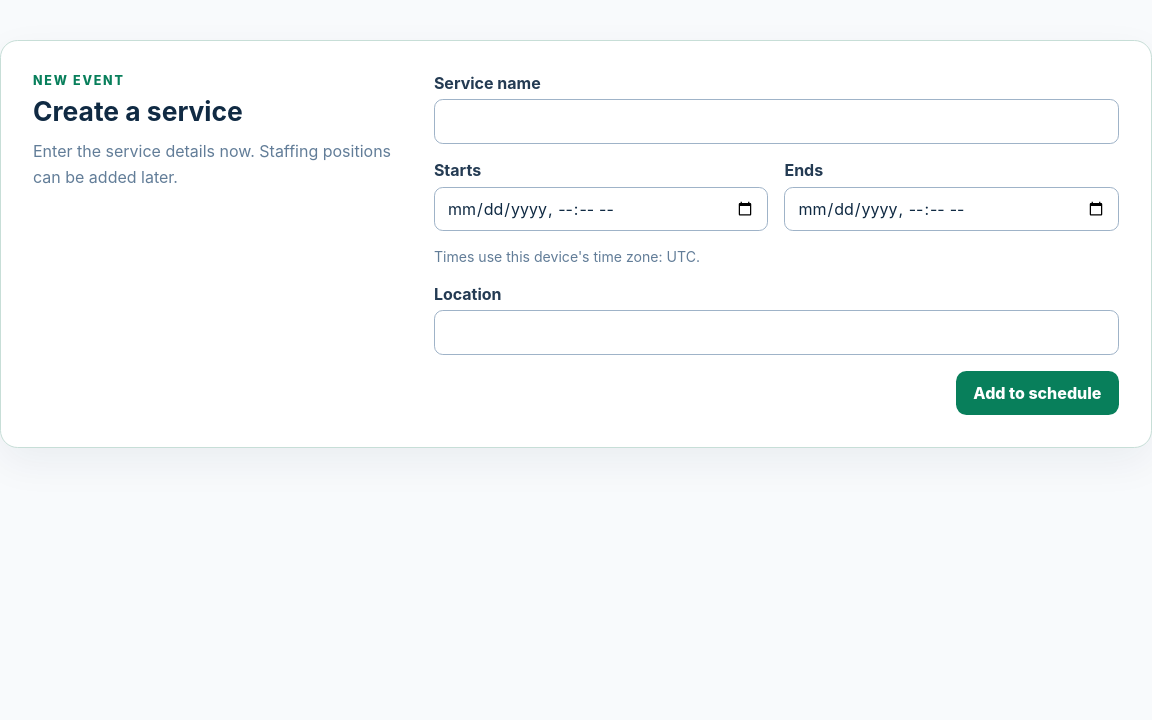
Test case: ServiceEventForm › rejects an end time that is not after the start time
Type "  Prayer Night  " into the field labelled "Service name".
click(776, 122); type("  Prayer Night  ")  # box left=434, top=99, right=1119, bottom=144
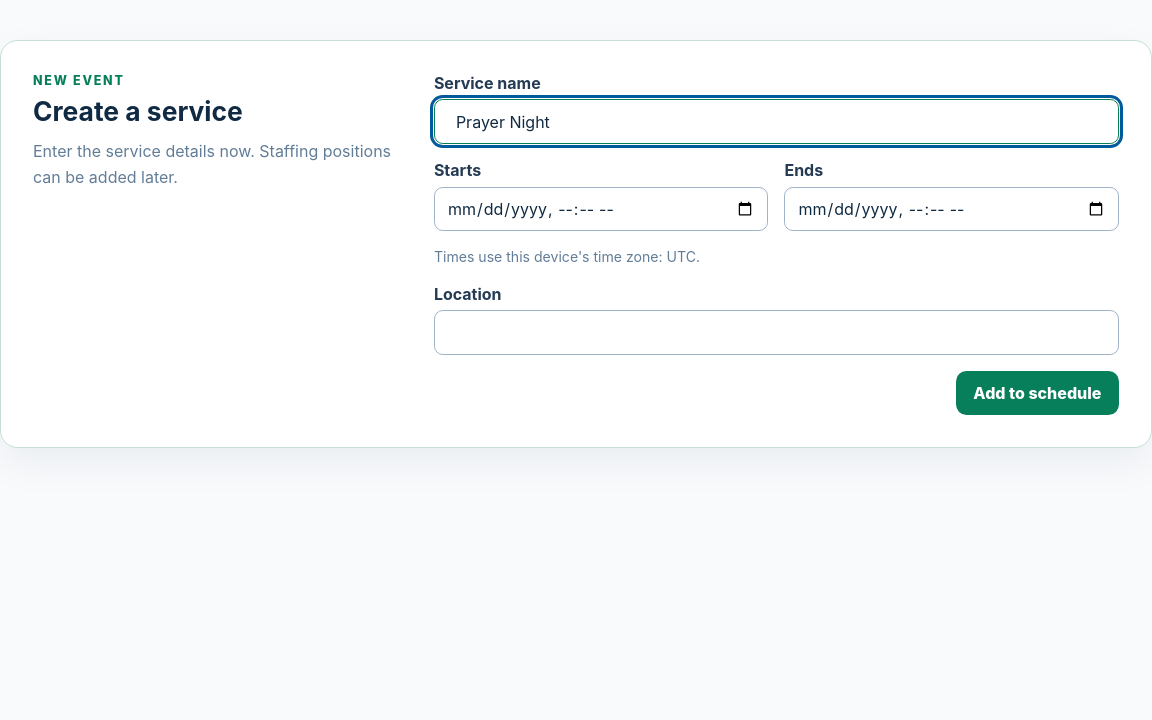
Type "2026-11-01T10:00" into the field labelled "Starts".
click(601, 209); type("2026-11-01T10:00")  # box left=434, top=187, right=768, bottom=231
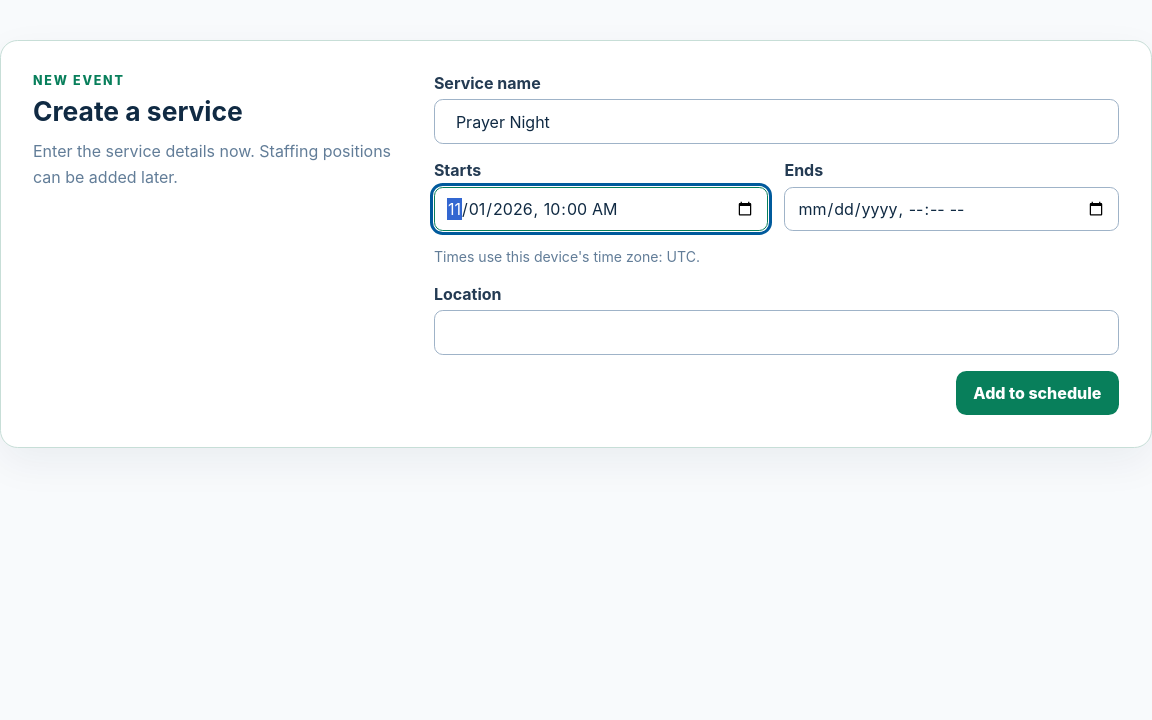
Type "2026-11-01T09:00" into the field labelled "Ends".
click(952, 209); type("2026-11-01T09:00")  # box left=784, top=187, right=1119, bottom=231
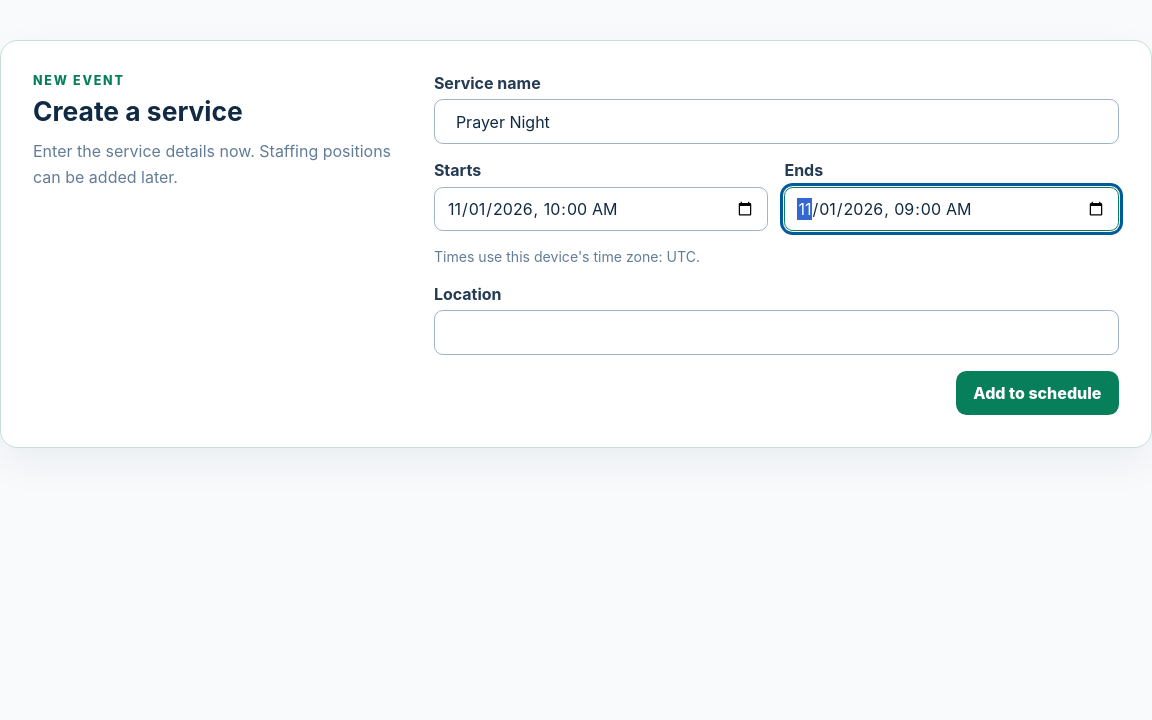
Type "  Chapel  " into the field labelled "Location".
click(776, 333); type("  Chapel  ")  # box left=434, top=310, right=1119, bottom=355
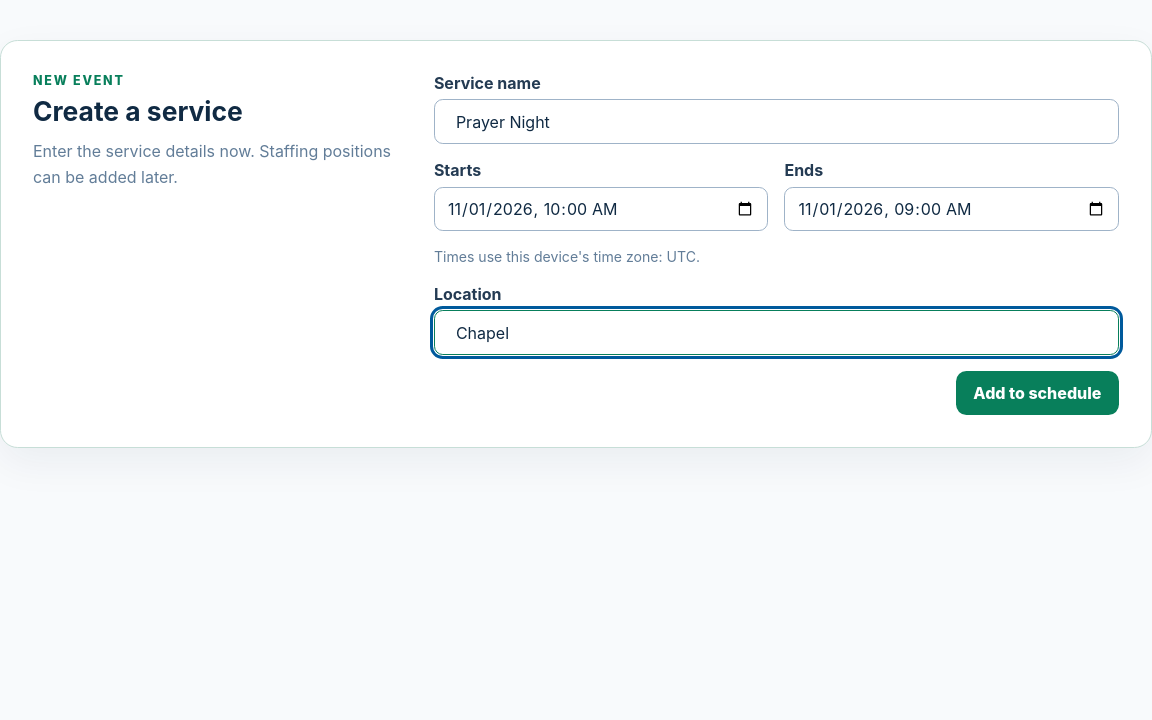
Click the button "Add to schedule".
click(1037, 393)  # box left=956, top=371, right=1119, bottom=415
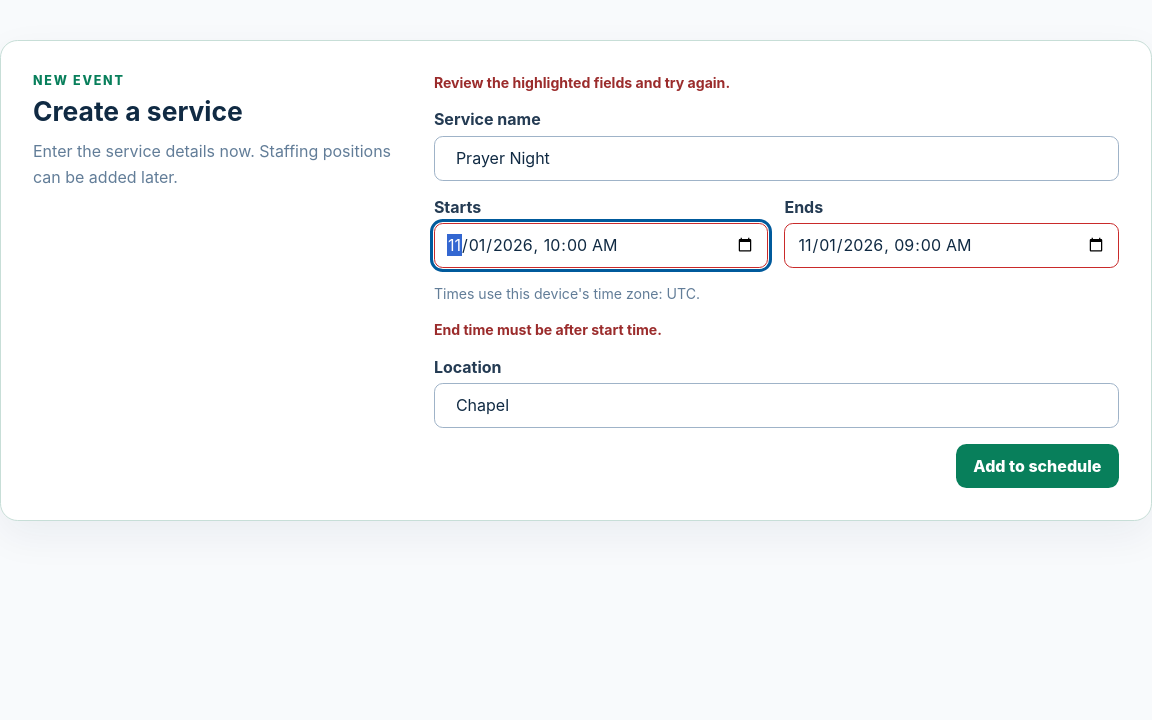
Now the text "End time must be after start time." is shown, box left=434, top=321, right=662, bottom=338
